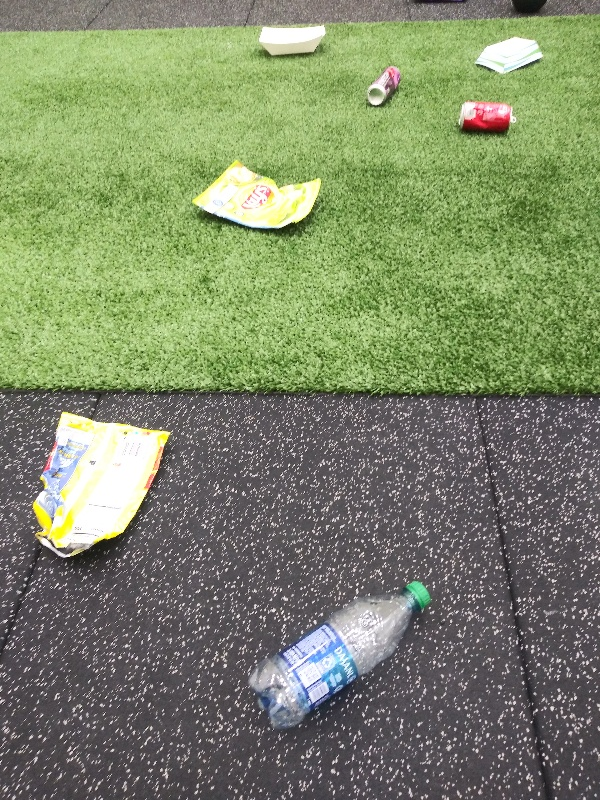bag: (27, 407, 175, 561), (190, 154, 329, 232)
bottle: (244, 577, 437, 739)
can: (448, 95, 522, 135), (365, 59, 406, 110)
plate: (467, 32, 545, 78), (256, 21, 329, 60)
